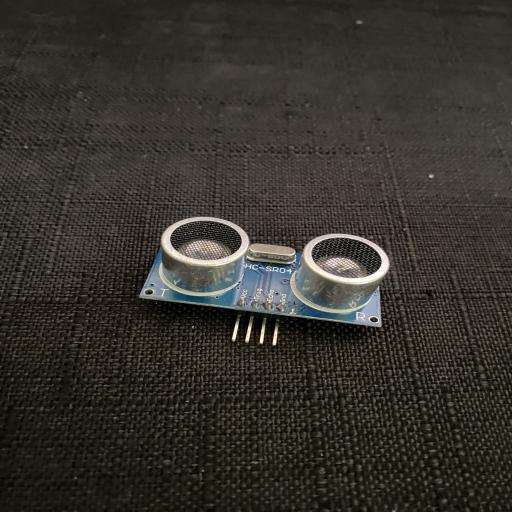Ultrasonic Sensor: (138, 216, 390, 348)
